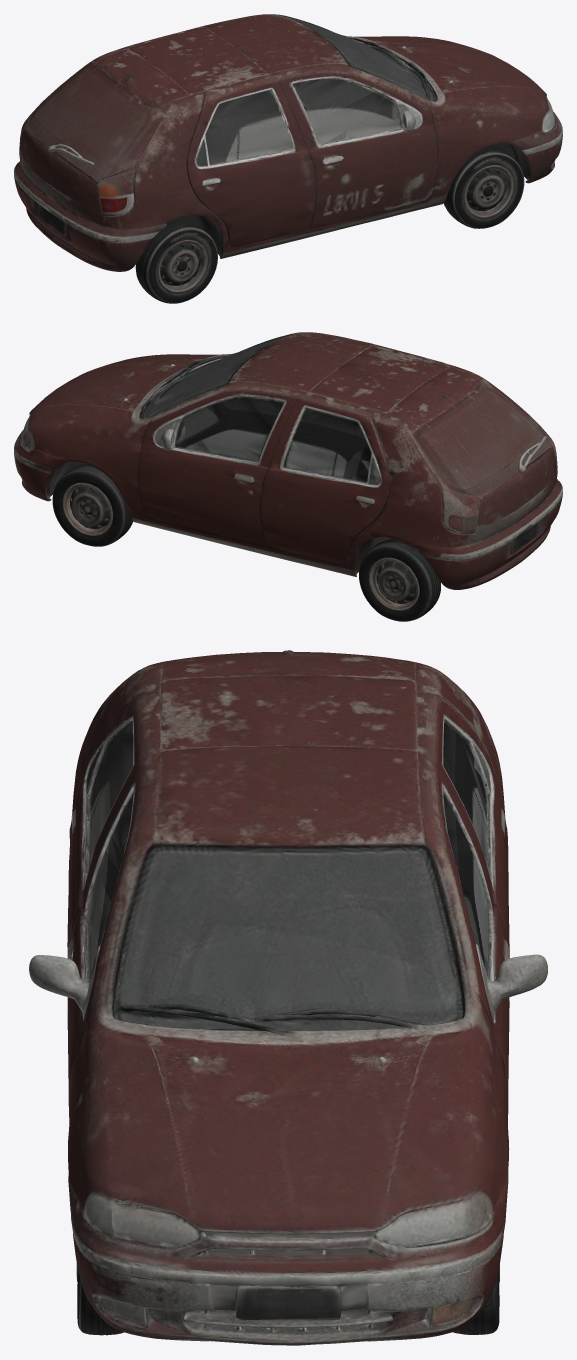
Rendered from tupiniquim-abandonado__01a16c1b.glb.
3 renders of one model, top to bottom at view 1: azimuth 30°, elevation 25°; view 2: azimuth 150°, elevation 25°; view 3: azimuth 270°, elevation 25°, orthographic. The views are drawn at different scales.
Parts seen in each view (by area): view 1: tupiniquim-abandonado; view 2: tupiniquim-abandonado; view 3: tupiniquim-abandonado.
Boxes of the visible parts, <box> form: tupiniquim-abandonado: <box>14,14,562,303</box>; tupiniquim-abandonado: <box>14,332,562,621</box>; tupiniquim-abandonado: <box>29,650,547,1345</box>.
Bounding box in the file's own units: 3.74 × 1.41 × 1.72.
Materials: 1 (1 with a texture image).
